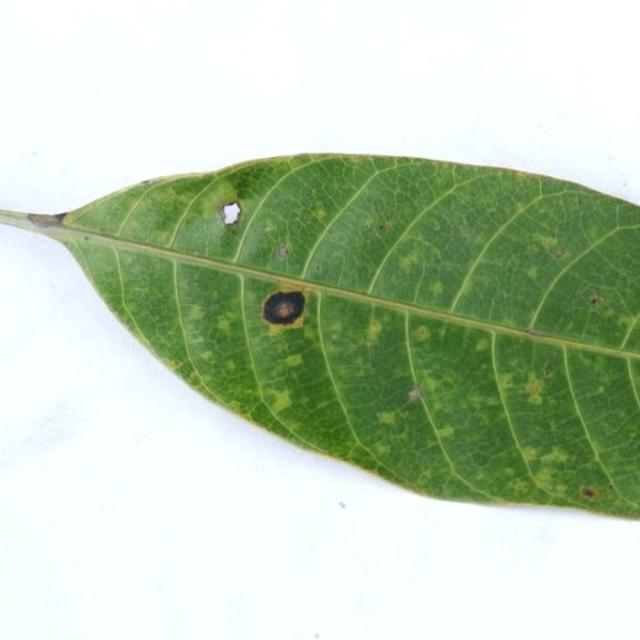Mango: (0, 154, 639, 522)
Powdery_Mildew: (360, 316, 387, 350), (417, 370, 447, 396), (265, 388, 294, 414), (529, 466, 556, 489), (464, 392, 493, 413), (537, 448, 569, 467), (524, 376, 545, 402), (397, 252, 421, 271), (266, 322, 296, 337), (495, 372, 515, 391), (377, 409, 399, 426), (619, 314, 639, 332), (519, 445, 539, 462), (215, 315, 234, 332), (187, 304, 206, 321), (284, 353, 305, 368), (373, 441, 392, 457), (588, 289, 604, 308), (407, 385, 423, 403), (311, 205, 328, 221), (428, 280, 445, 296), (474, 336, 491, 352), (511, 478, 529, 493), (539, 236, 559, 249), (435, 426, 455, 439), (226, 400, 245, 413), (364, 215, 380, 230), (198, 350, 215, 364), (524, 265, 540, 279), (303, 324, 317, 340), (263, 220, 277, 234), (415, 326, 429, 340), (164, 359, 179, 371), (189, 371, 202, 384), (378, 220, 392, 232), (554, 249, 569, 260), (593, 385, 605, 395)
